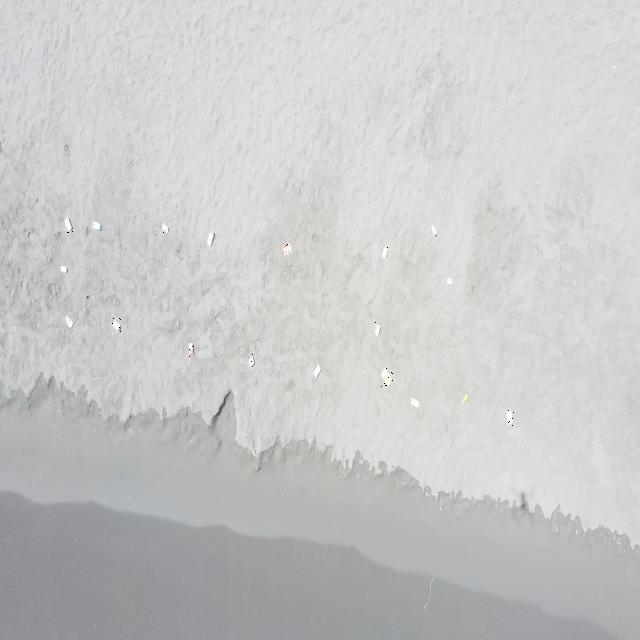retort-pouch: (382, 366, 394, 388), (112, 318, 122, 334), (64, 216, 73, 233), (506, 408, 514, 426), (65, 314, 74, 330), (283, 240, 291, 258), (312, 364, 322, 378), (247, 354, 256, 368), (410, 397, 420, 409), (374, 322, 382, 337), (208, 232, 215, 248), (430, 223, 438, 237), (92, 221, 102, 232), (161, 222, 170, 234), (187, 343, 194, 358), (462, 392, 469, 406), (382, 247, 389, 260), (446, 277, 454, 287), (60, 264, 68, 274)
